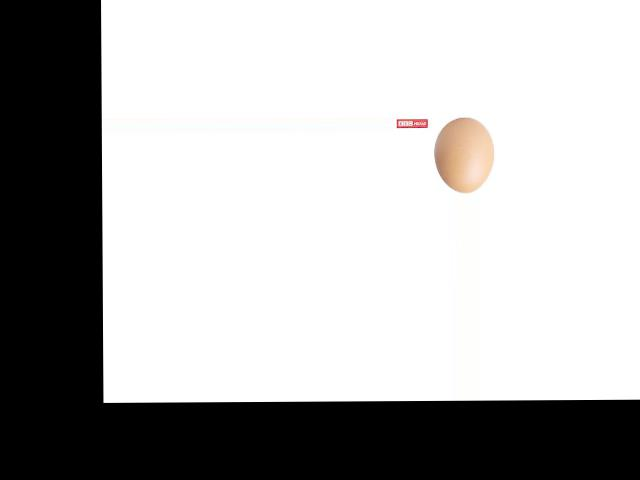egg: (434, 117, 494, 192)
